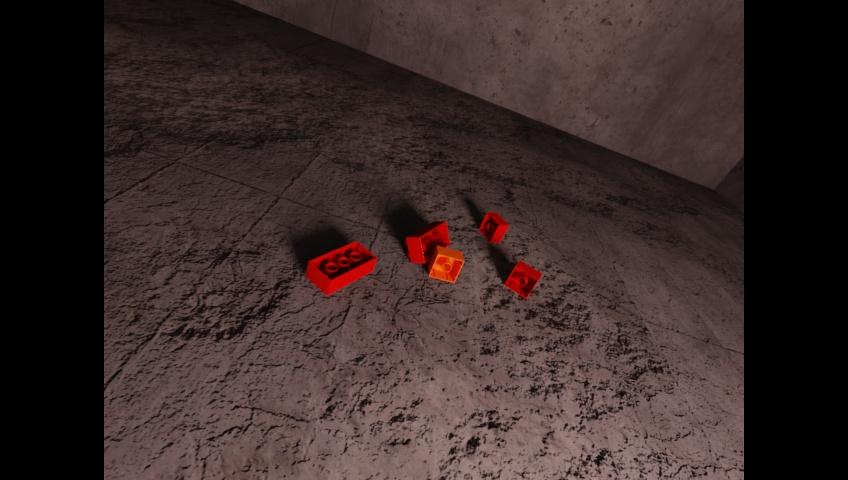2x2_orange: (428, 245, 465, 284)
2x2_red: (504, 260, 541, 298), (478, 212, 508, 242)
4x2_red: (305, 240, 376, 294), (405, 220, 449, 262)
